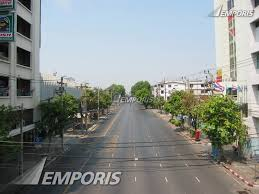strada: (106, 100, 166, 191)
